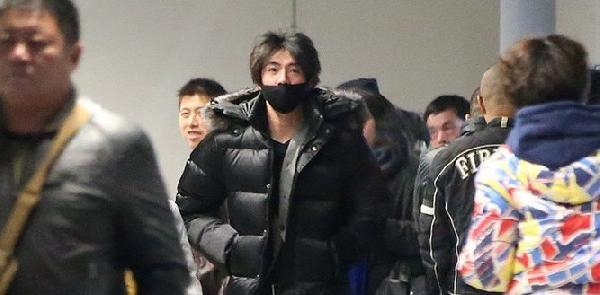NONE: (1, 27, 69, 97), (181, 103, 220, 146), (428, 119, 466, 156)
WRONG: (262, 58, 318, 114)
